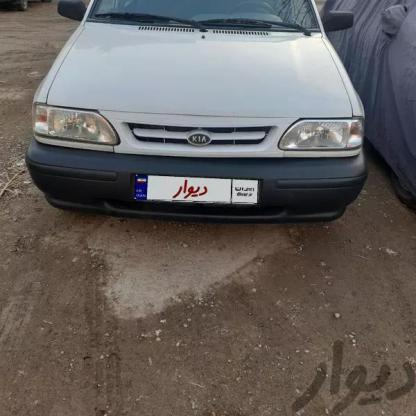Car: (34, 0, 366, 232)
